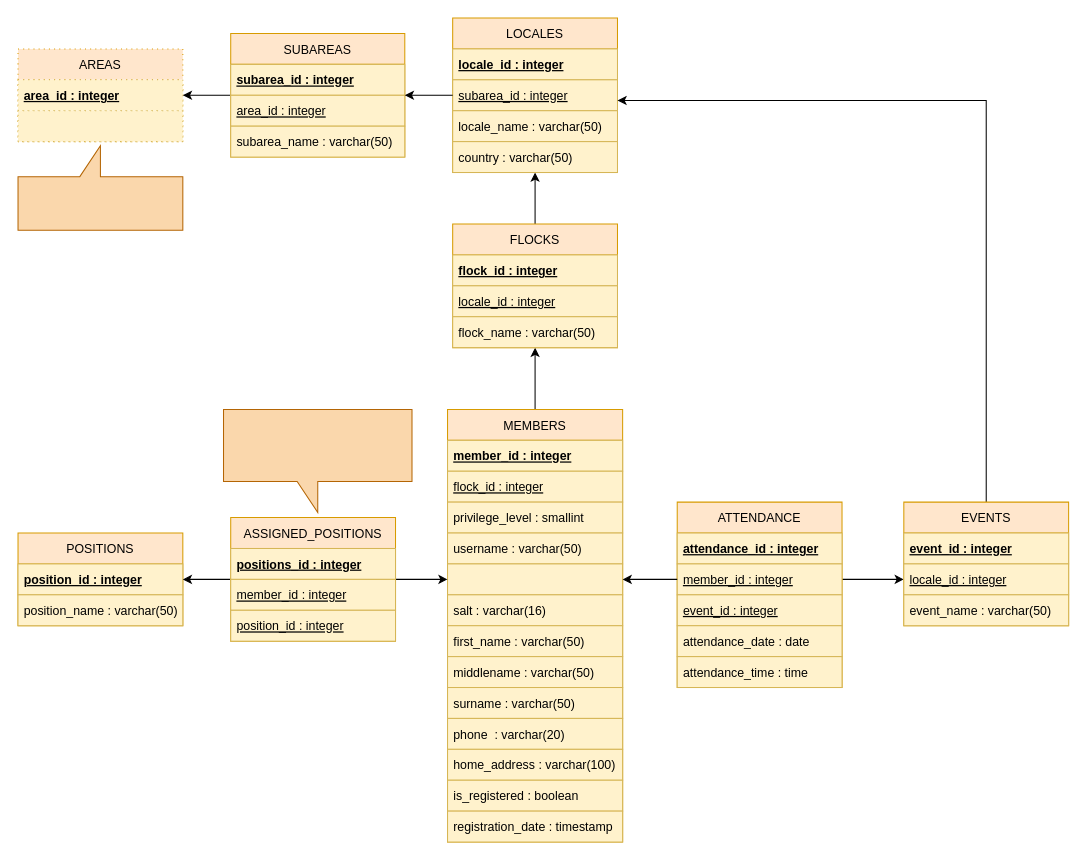
Image size: 1087x860. Some labels were removed from this diagram. Each missing label, with the centre of its shape:
"area_name : varchar(50)" goes at pixel 100 126.
"passwd : varchar(64)" goes at pixel 535 579.
"The database might be distributed by AREA, so this table might not be needed" goes at pixel 100 187.
"The positions_id will be the same as the assigned member_id" goes at pixel 317 460.
